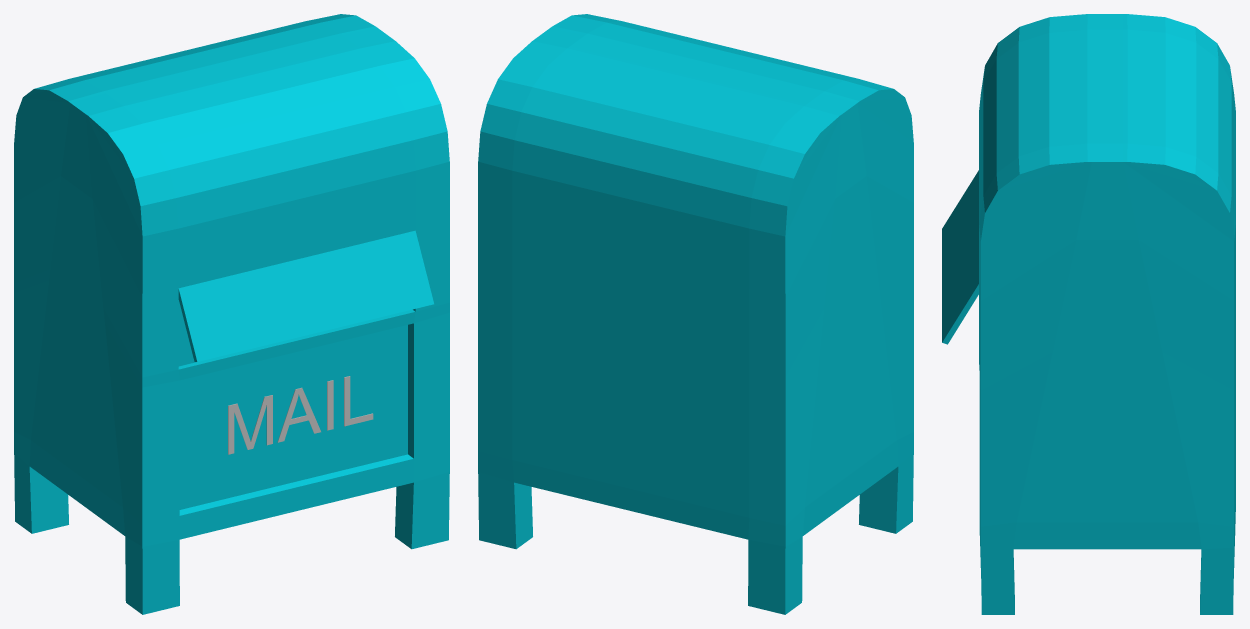
Rendered from mailbox.glb.
The picture shows the model from 3 angles, left to right: view 1: azimuth 30°, elevation 25°; view 2: azimuth 150°, elevation 25°; view 3: azimuth 270°, elevation 25°; orthographic projection.
Visible parts, largest first — view 1: Box001, Text001; view 2: Box001; view 3: Box001.
Boxes of the visible parts, x1,y1,x2,y2 form: Box001: (14, 14, 449, 614); Text001: (228, 376, 373, 454); Box001: (478, 14, 913, 614); Box001: (942, 14, 1235, 614).
Bounding box in the file's own units: 433019 × 615486 × 360392.
